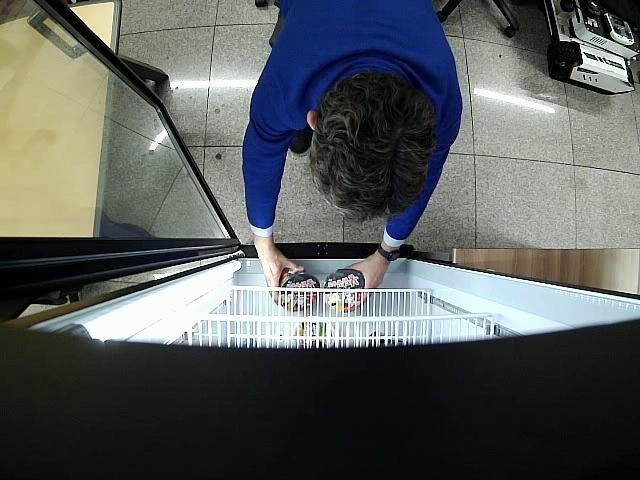00_hand: (255, 241, 305, 305), (344, 257, 385, 303)
07_buldak_L: (324, 269, 366, 313), (279, 268, 321, 311)
